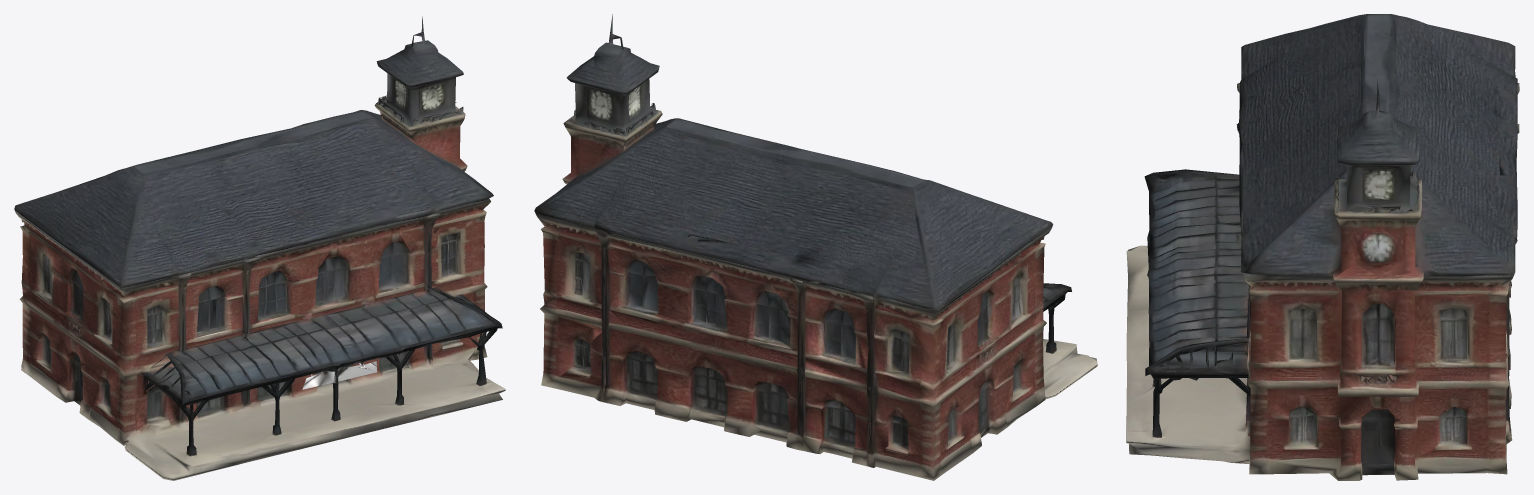
The model's file is train_station.glb.
The picture shows the model from 3 angles, left to right: view 1: azimuth 30°, elevation 25°; view 2: azimuth 150°, elevation 25°; view 3: azimuth 270°, elevation 25°; orthographic projection. The views are drawn at different scales.
Parts seen in each view (by area): view 1: tripo_node_dfc02222-26b0-4aa3-80a0-19ac128d32ab; view 2: tripo_node_dfc02222-26b0-4aa3-80a0-19ac128d32ab; view 3: tripo_node_dfc02222-26b0-4aa3-80a0-19ac128d32ab.
Part boxes in pixels (x1=…): tripo_node_dfc02222-26b0-4aa3-80a0-19ac128d32ab: x1=14, y1=16, x2=505, y2=480; tripo_node_dfc02222-26b0-4aa3-80a0-19ac128d32ab: x1=534, y1=14, x2=1097, y2=480; tripo_node_dfc02222-26b0-4aa3-80a0-19ac128d32ab: x1=1126, y1=14, x2=1519, y2=480.
Size of the model in its own units: 0.9993 by 0.7696 by 0.7076.
Materials: 1 (1 with a texture image).
